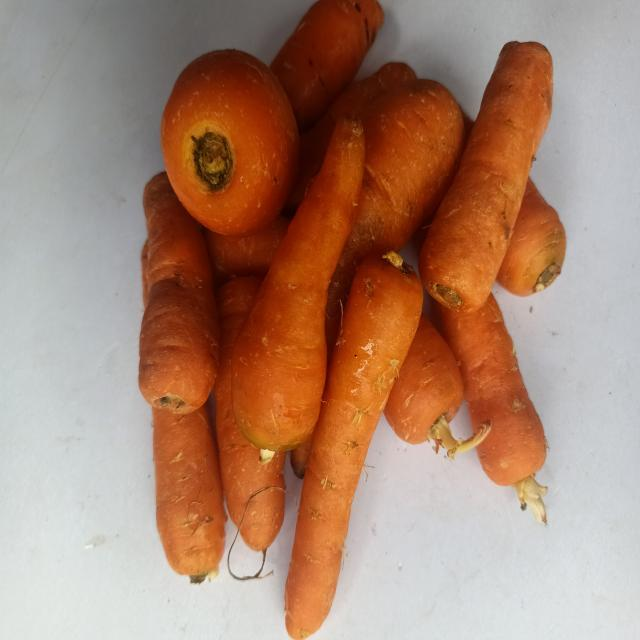Carrot: (285, 251, 423, 639), (231, 113, 365, 451), (326, 78, 465, 352), (419, 40, 554, 312), (438, 293, 548, 524), (214, 277, 286, 553), (138, 172, 219, 414), (151, 403, 227, 581)
